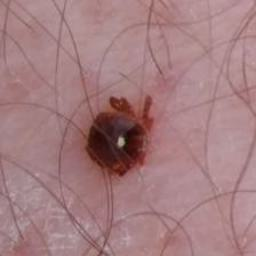Dermacentor variabilis: (86, 93, 157, 176), (87, 132, 89, 133)
